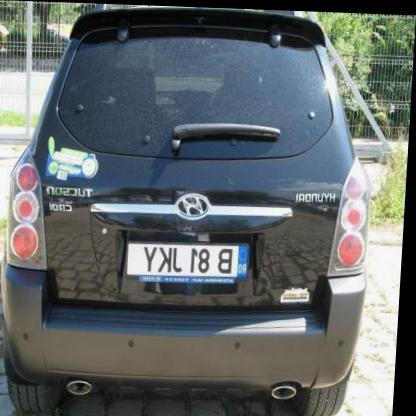License_Plate: (124, 240, 250, 286)
